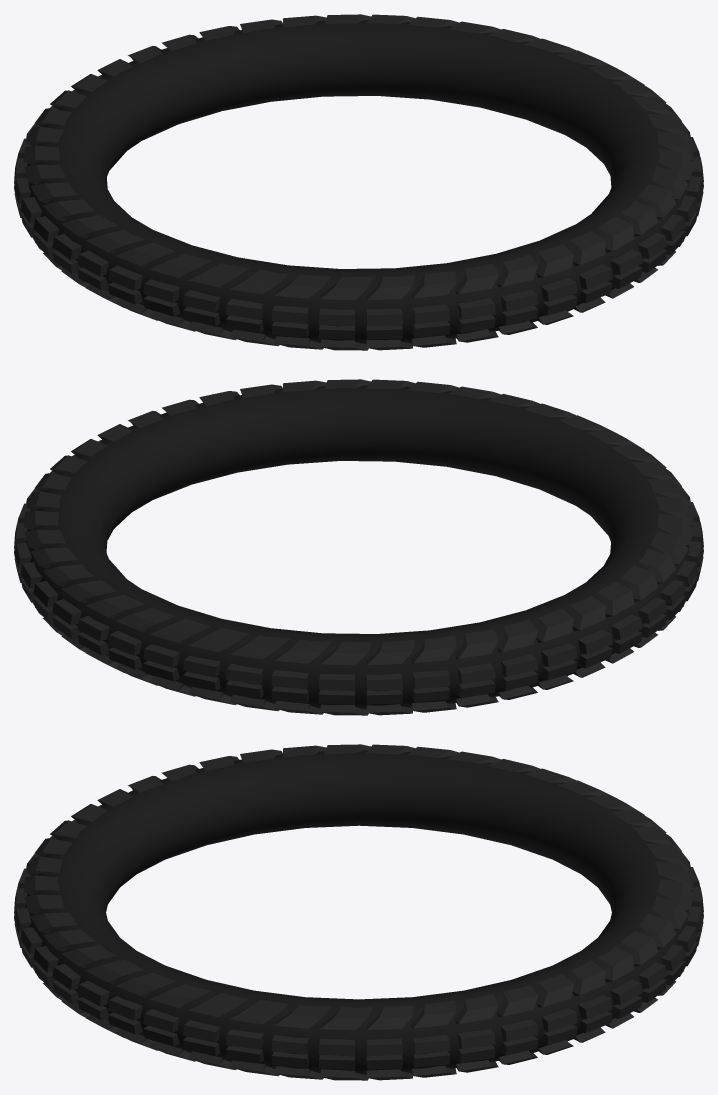
Rendered from LunTai_ZiXingChe_1X9_off.FBX.
The picture shows the model from 3 angles, top to bottom: view 1: azimuth 30°, elevation 25°; view 2: azimuth 150°, elevation 25°; view 3: azimuth 270°, elevation 25°; orthographic projection.
Visible parts, largest first — view 1: Box001; view 2: Box001; view 3: Box001.
Boxes of the visible parts, left/top/right/bottom form: Box001: left=14, top=14, right=703, bottom=350; Box001: left=14, top=379, right=703, bottom=715; Box001: left=14, top=744, right=703, bottom=1080.
Size of the model in its own units: 9.29 by 0.9946 by 9.29.
